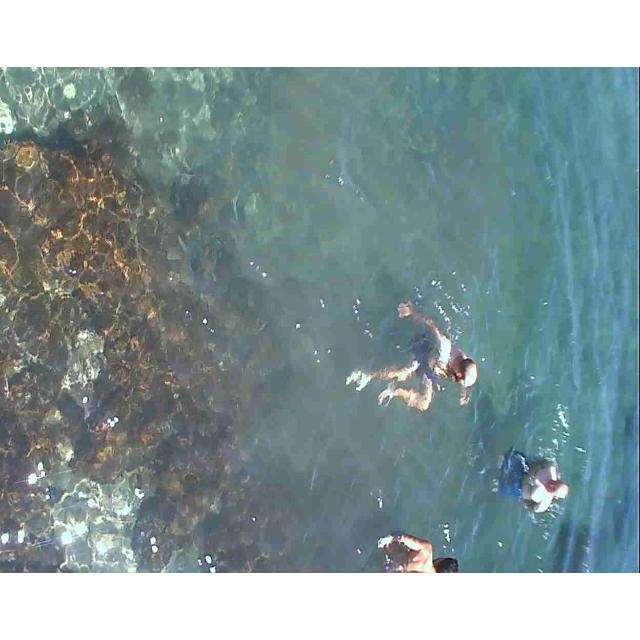human: (386, 272, 490, 451), (503, 444, 573, 525)
